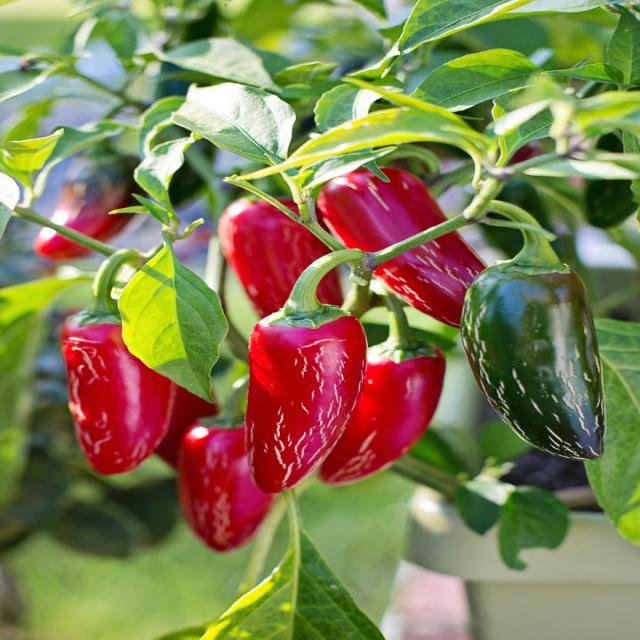aji: (82, 190, 598, 520)
